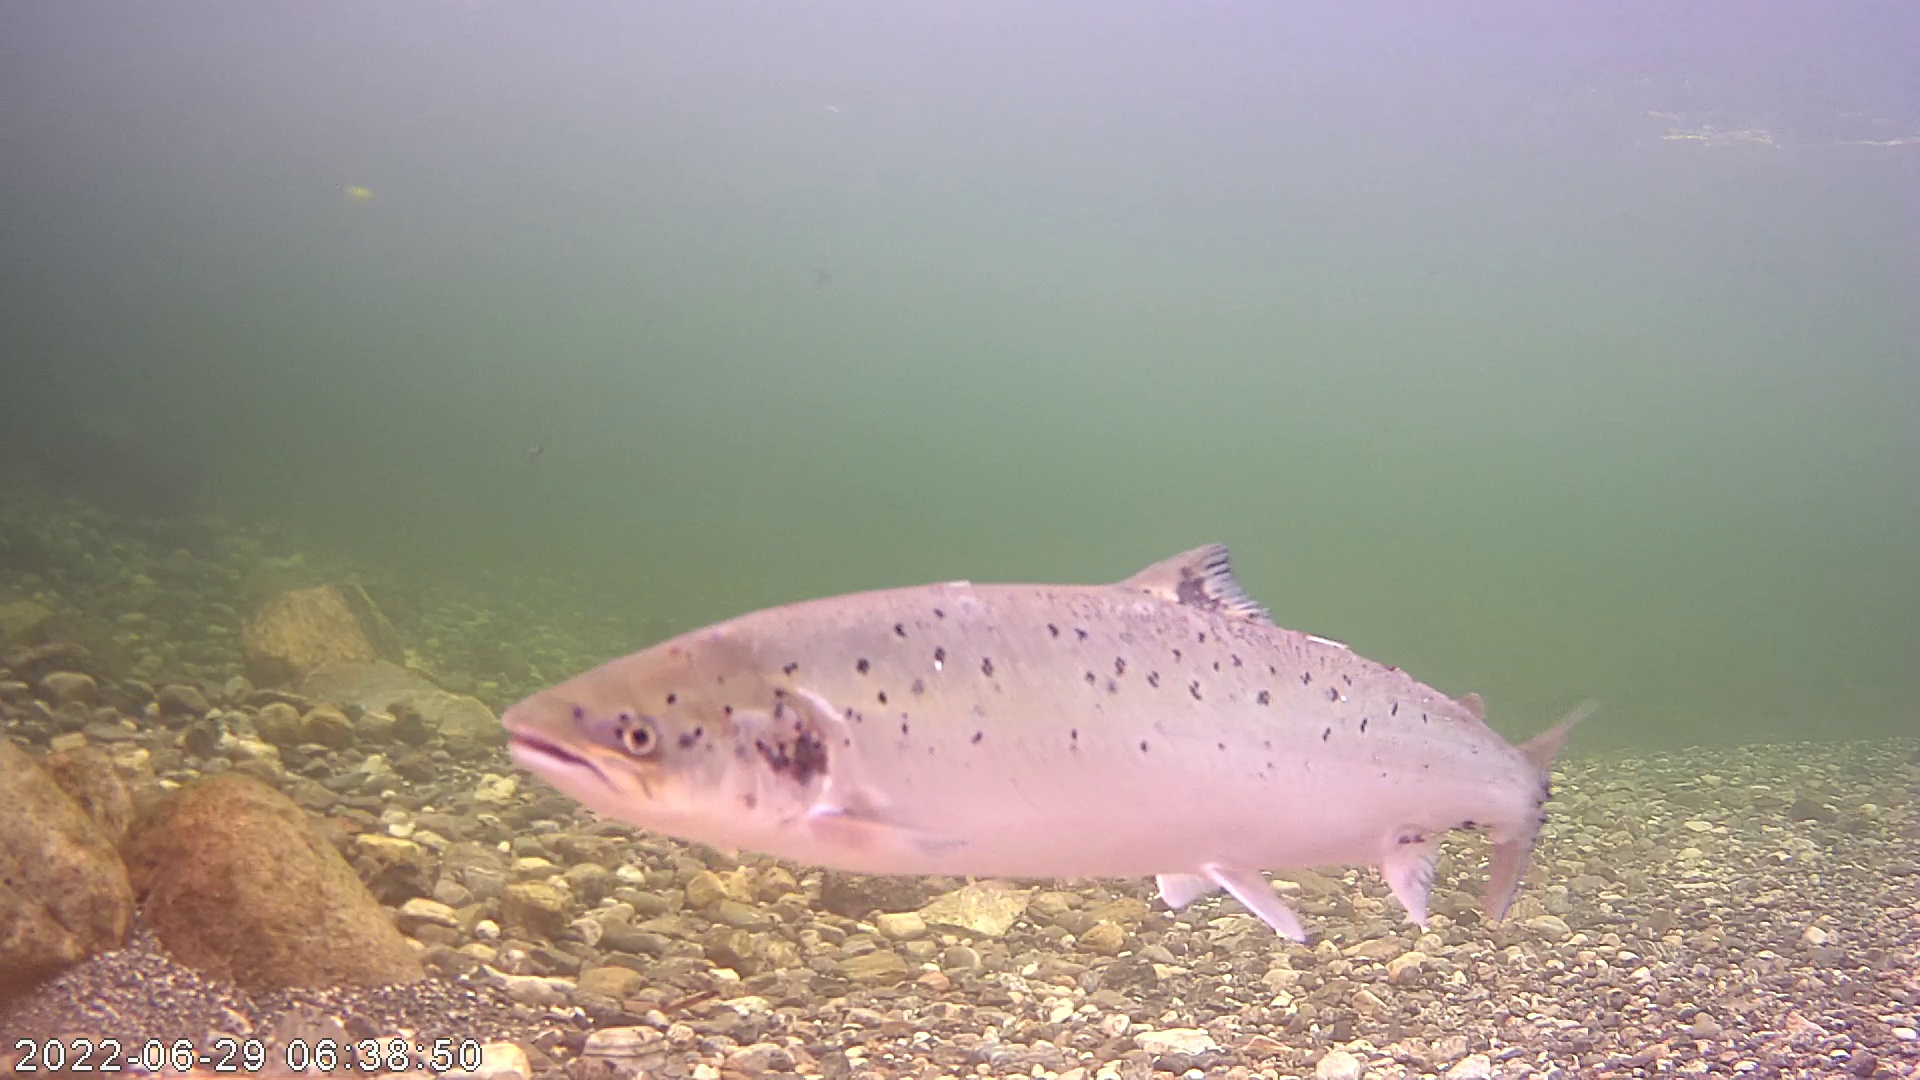salmon: (496, 535, 1594, 945)
